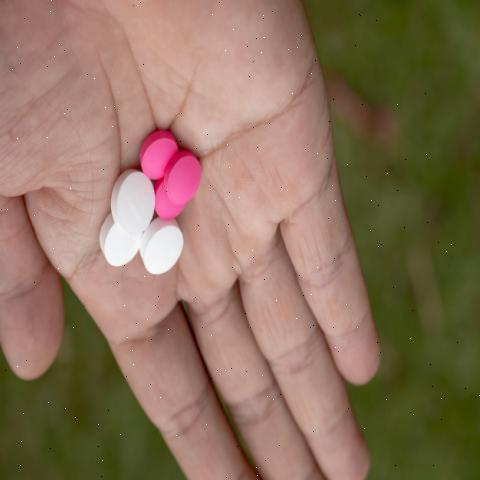Pill: (139, 218, 190, 292), (92, 211, 136, 283), (111, 165, 151, 234)
